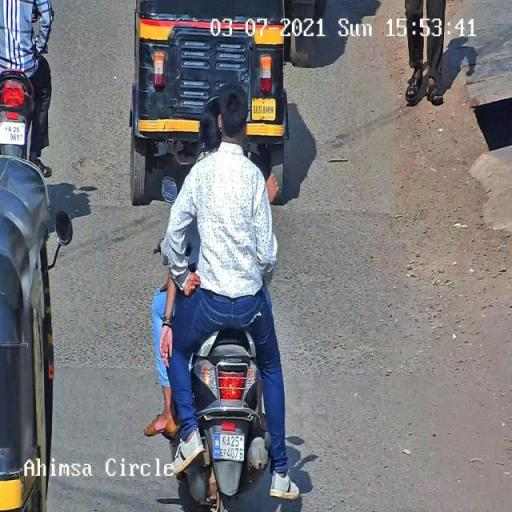tripple riding: (149, 82, 287, 343)
